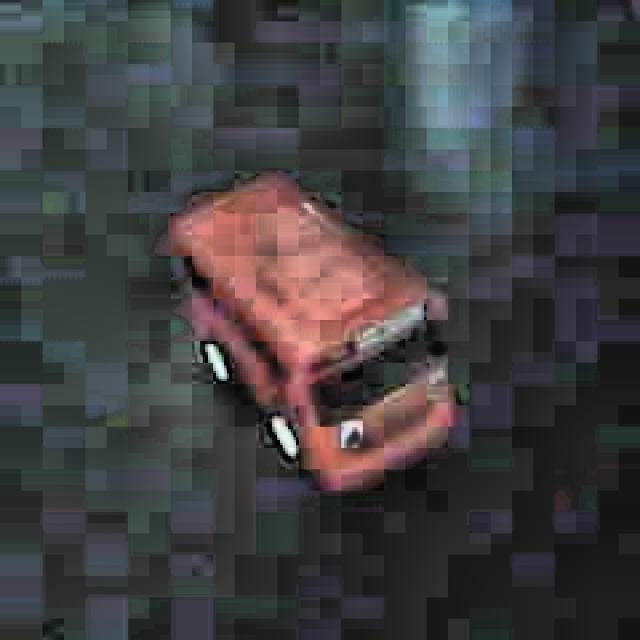bus: (158, 153, 464, 509)
